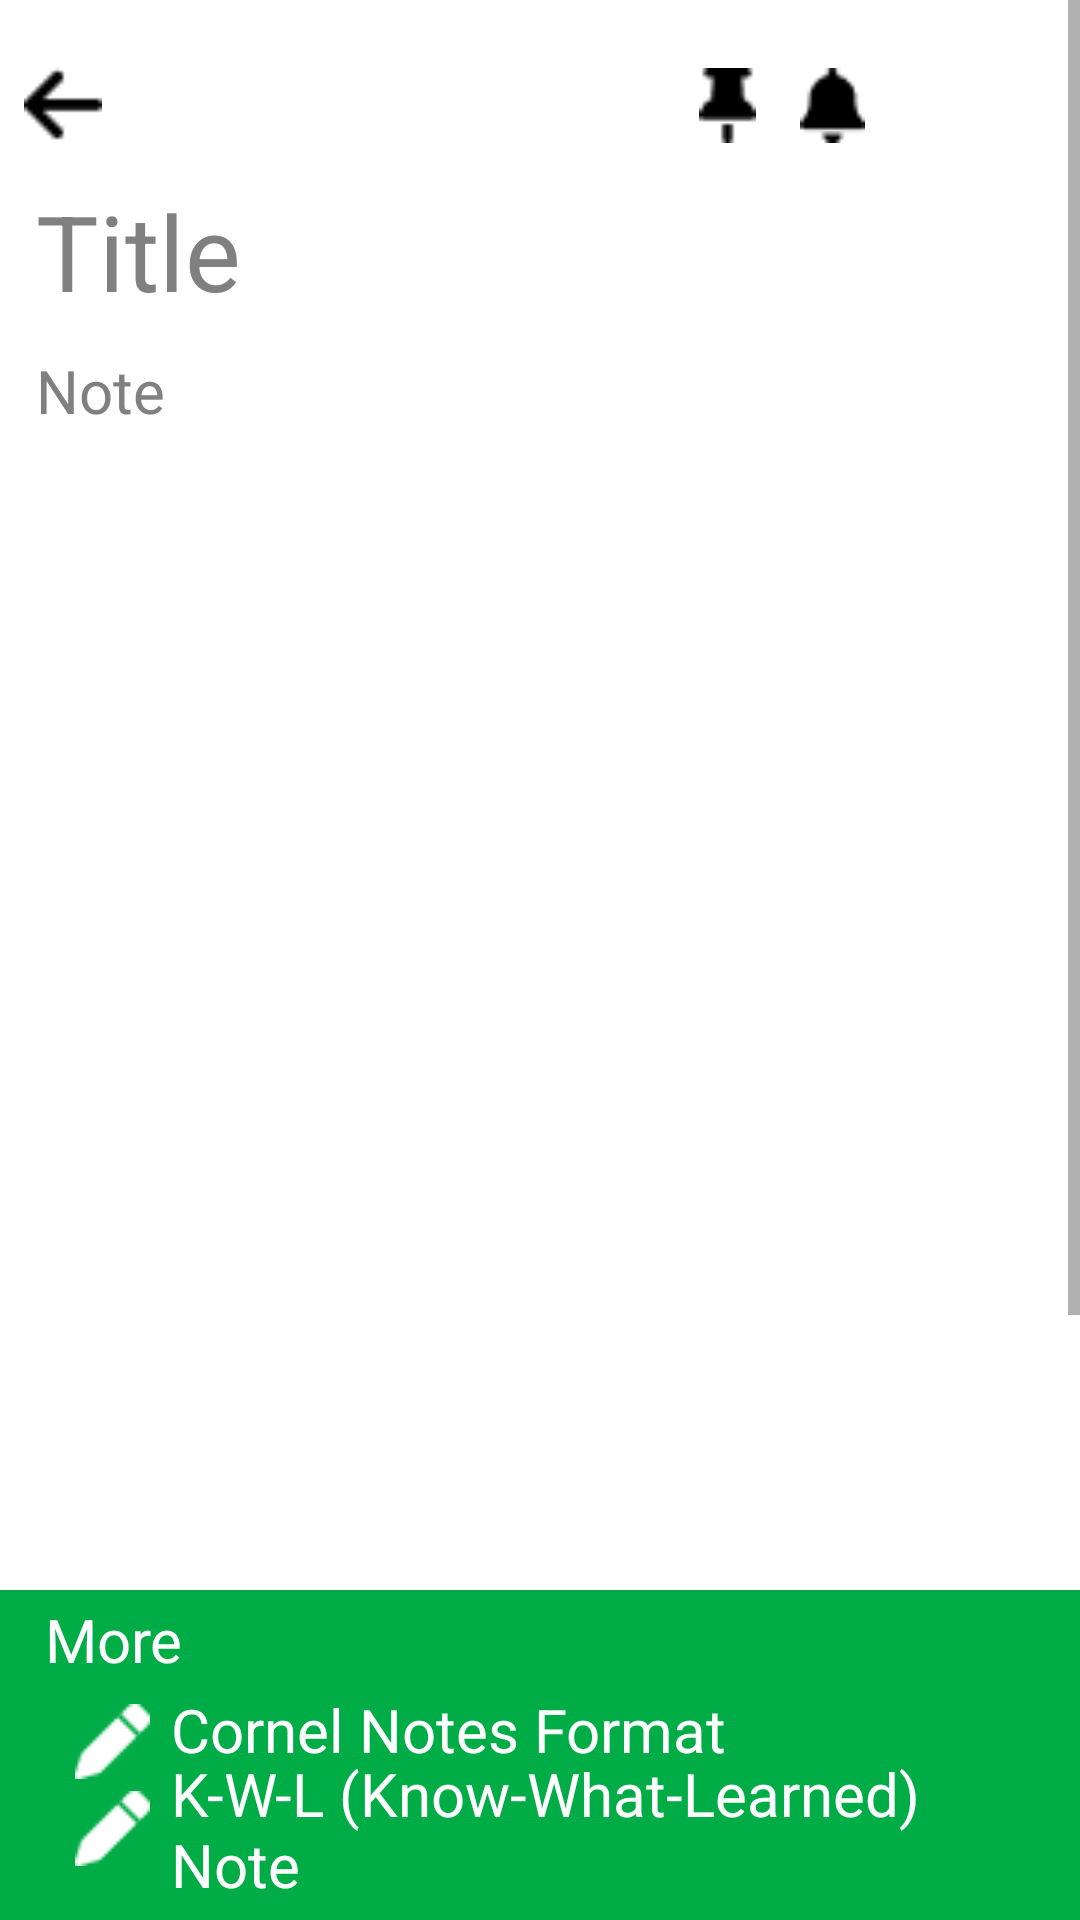

Where icons sit on this 1080px x 1920px app screen, as (x1, y1, x2, y2):
arrow left: (24, 69, 102, 140)
bell: (800, 68, 865, 143)
pin: (699, 68, 756, 143)
